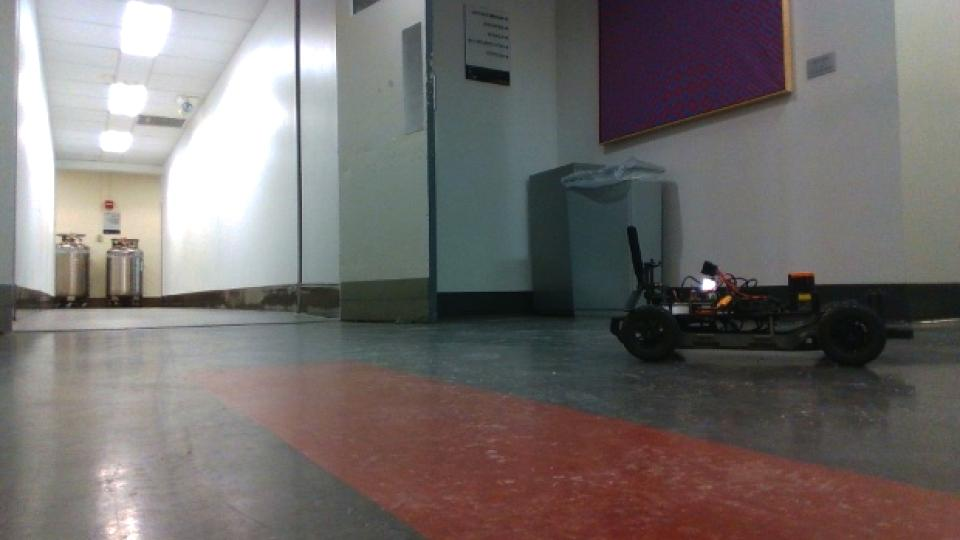car: (607, 222, 907, 369)
